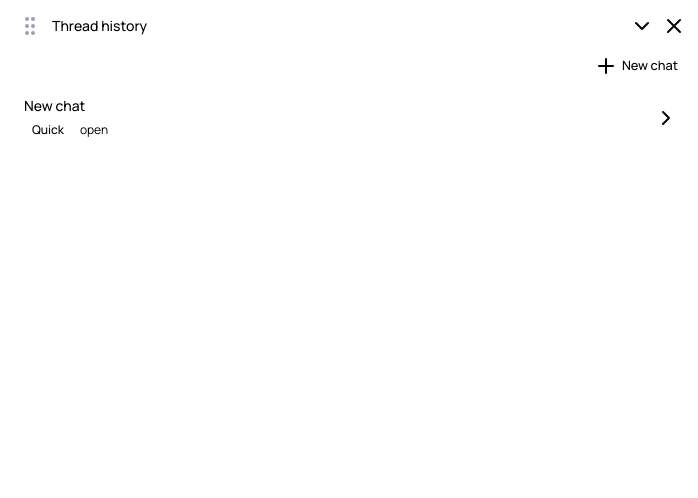
Test: history › restores the saved watch card on reopen and hides its internal envelope
The width and height of the screenshot is (698, 498).
Step 1. Click the button named "open new chat" → (666, 118), box [652,104,680,132]
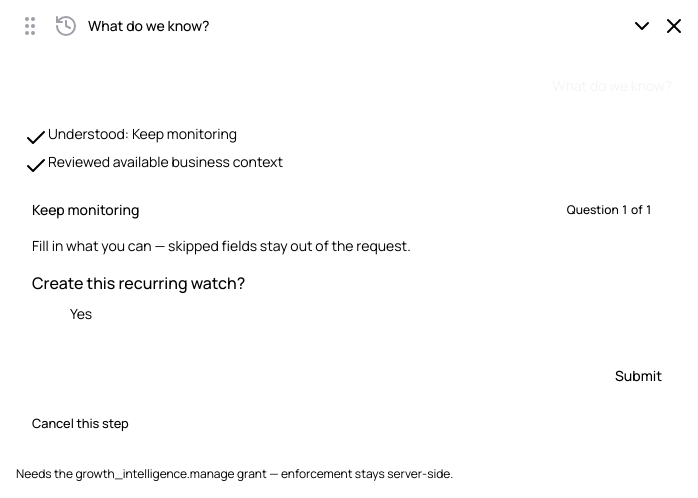
Result: the text "Create this recurring watch?" is shown at [32,272,245,294]
